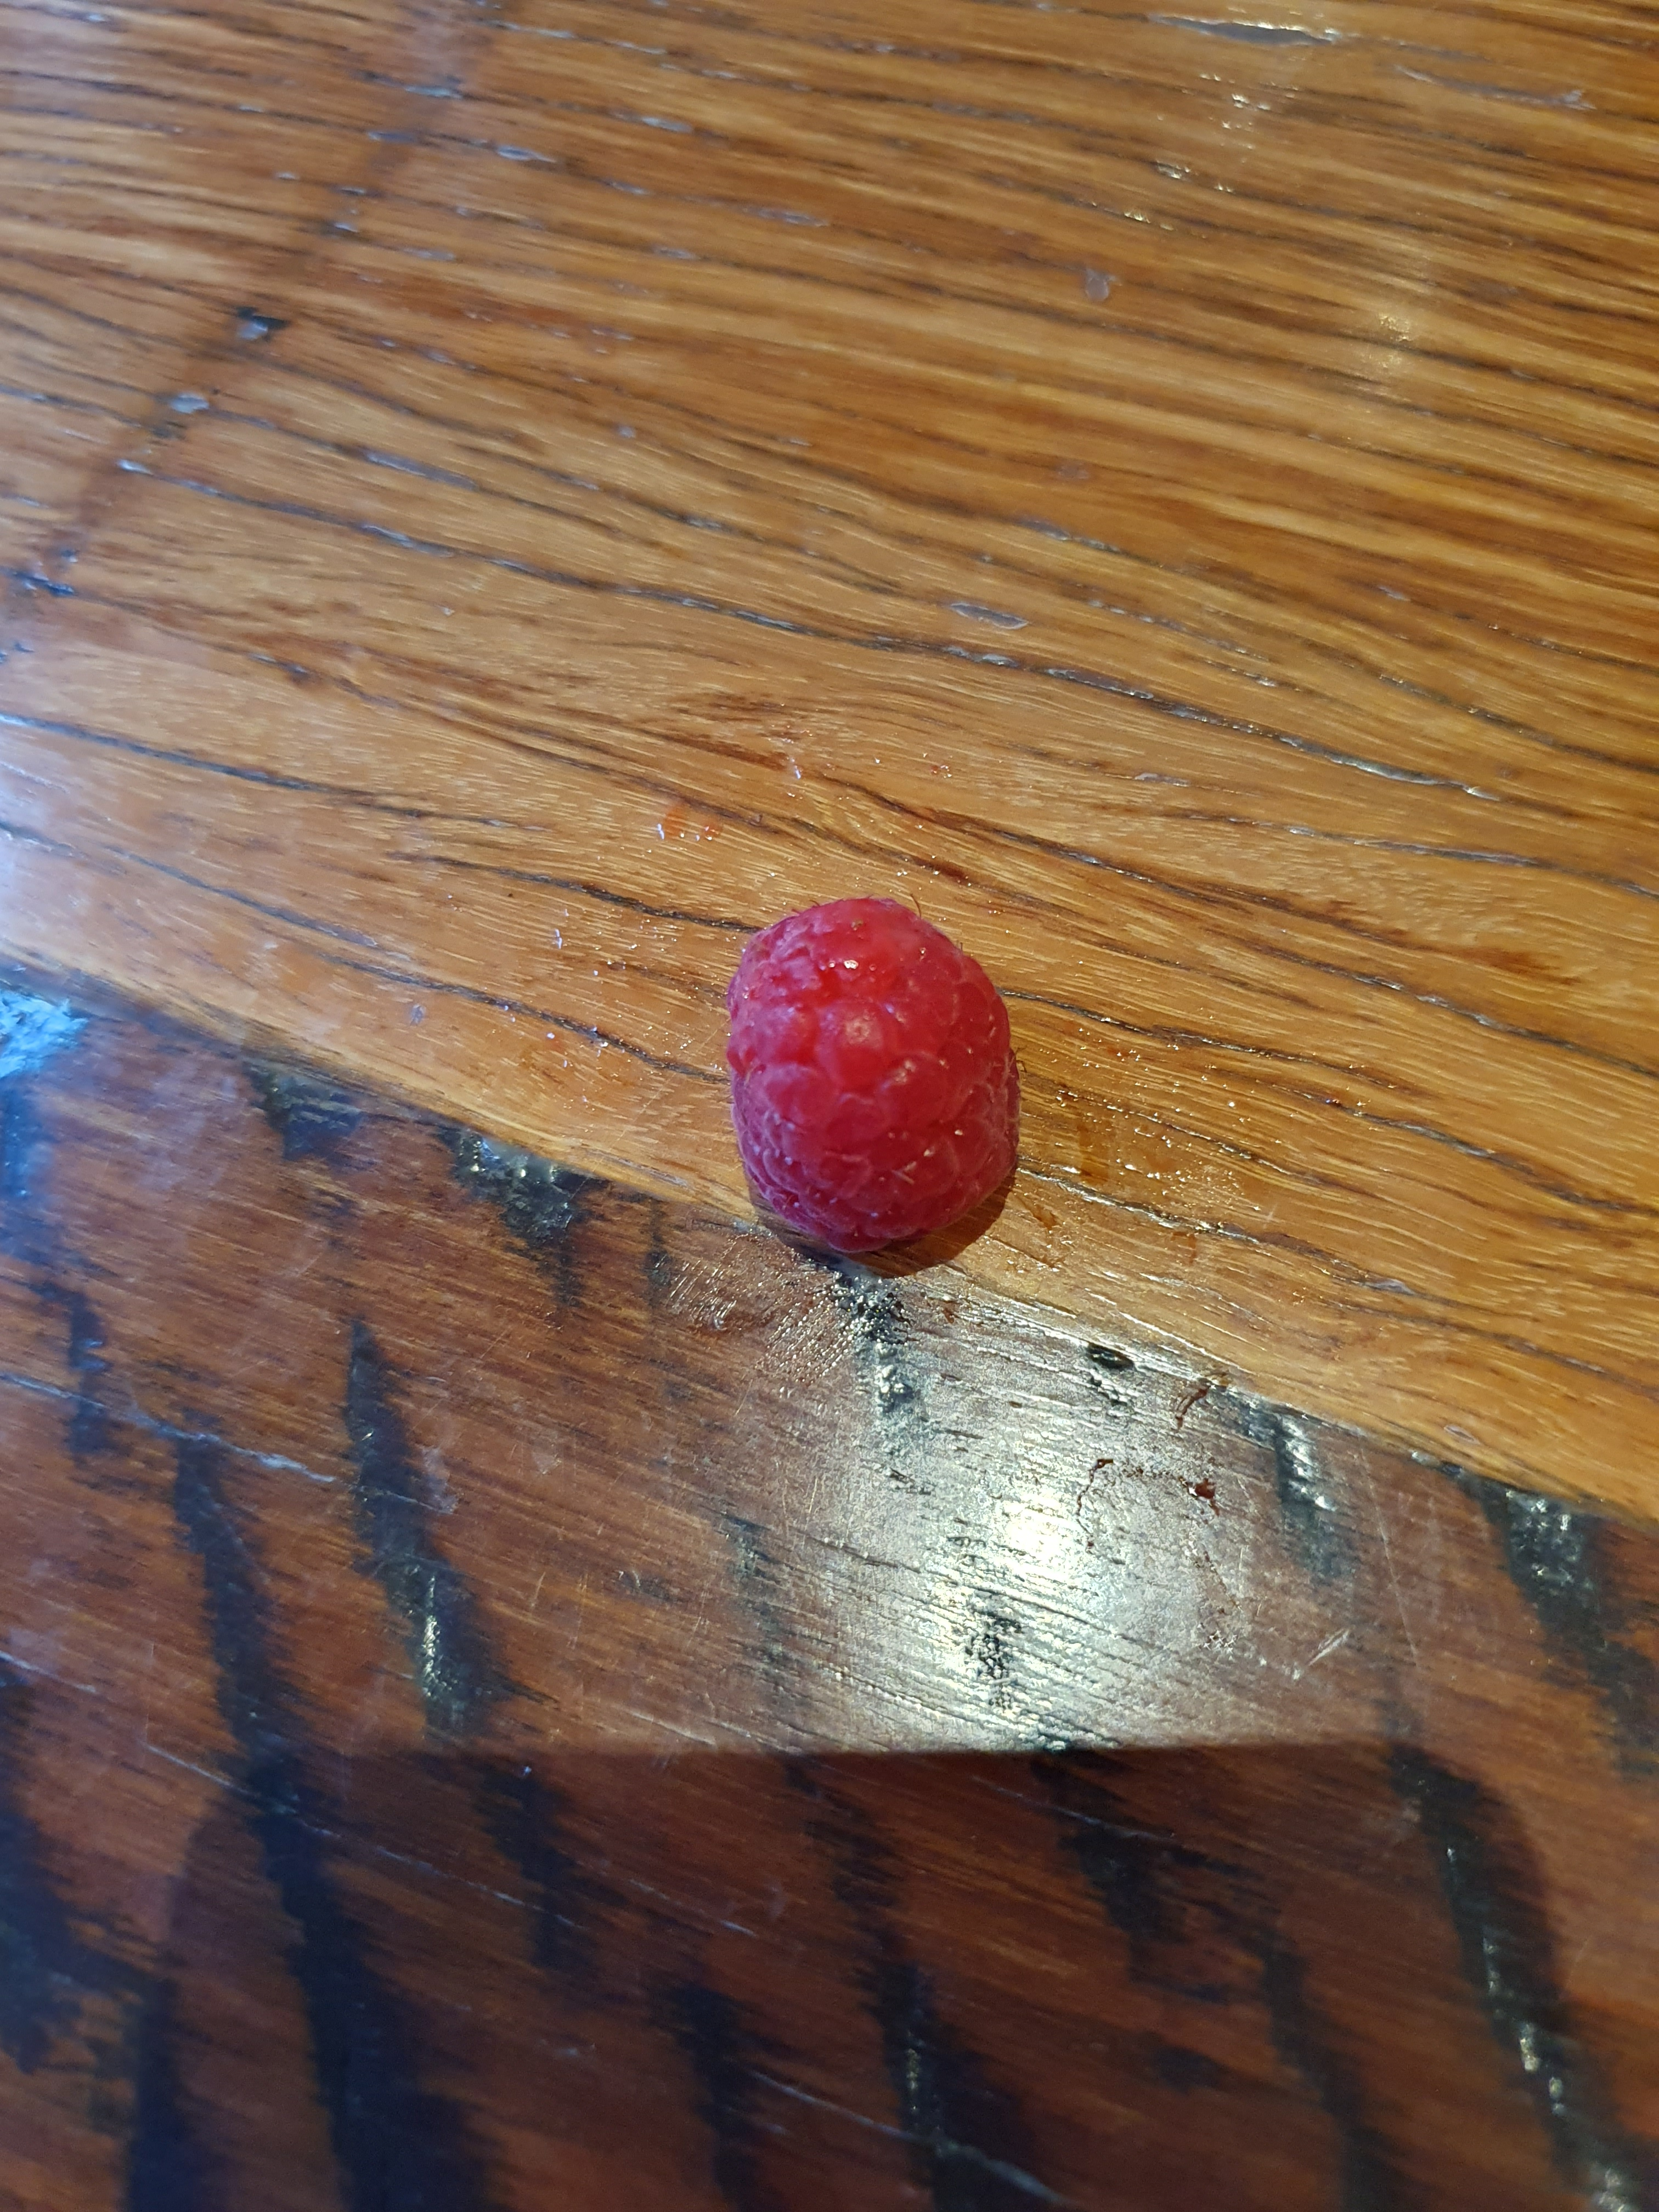raspberry: (676, 855, 1053, 1273)
